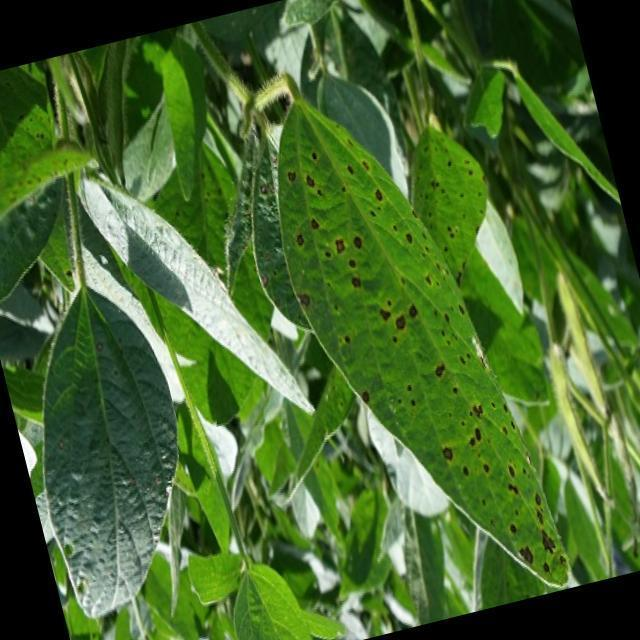Bacterial Spot: (271, 104, 567, 622)
